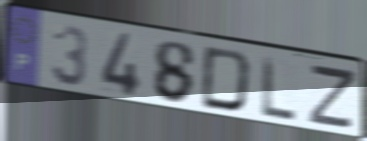3: (50, 24, 89, 90)
4: (99, 31, 143, 99)
8: (152, 40, 197, 106)
D: (199, 44, 254, 115)
L: (261, 54, 298, 123)
Z: (305, 64, 359, 132)
